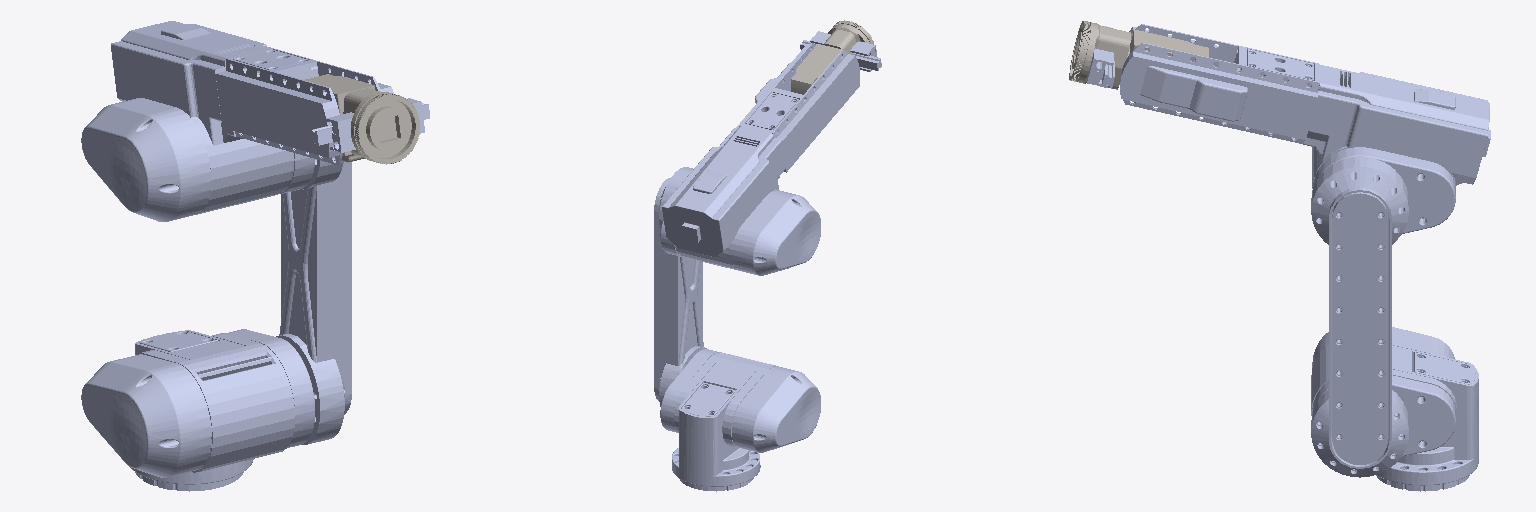
The robot description file, URDF, robot "robot_description_3":
<?xml version="1.0" encoding="utf-8"?>
<!-- This URDF was automatically created by SolidWorks to URDF Exporter! Originally created by [author] ([email redacted]) 
     Commit Version: 1.6.0-4-g7f85cfe  Build Version: 1.6.7995.38578
     For more information, please see http://wiki.ros.org/sw_urdf_exporter -->
<robot
  name="robot_description_3">
  <link
    name="base_link">
    <inertial>
      <origin
        xyz="-1.39077121530384E-06 0.0252334564653021 0.0913147831518379"
        rpy="0 0 0" />
      <mass
        value="6.38809399175893" />
      <inertia
        ixx="0.044253134336244"
        ixy="5.73120334715661E-07"
        ixz="6.02857447326292E-07"
        iyy="0.0326808549807236"
        iyz="-0.00206701679029979"
        izz="0.0428425867367847" />
    </inertial>
    <visual>
      <origin
        xyz="0 0 0"
        rpy="0 0 0" />
      <geometry>
        <mesh
          filename="package://robot_description_3/meshes/base_link.STL" />
      </geometry>
      <material
        name="">
        <color
          rgba="0.650980392156863 0.619607843137255 0.588235294117647 1" />
      </material>
    </visual>
    <collision>
      <origin
        xyz="0 0 0"
        rpy="0 0 0" />
      <geometry>
        <mesh
          filename="package://robot_description_3/meshes/base_link.STL" />
      </geometry>
    </collision>
  </link>
  <link
    name="link_1">
    <inertial>
      <origin
        xyz="-0.0459108378275545 0.0148885906295184 0.103785737116318"
        rpy="0 0 0" />
      <mass
        value="6.1422924246984" />
      <inertia
        ixx="0.0161938846987628"
        ixy="-4.26664474430145E-05"
        ixz="0.00445364092698756"
        iyy="0.0301710043585423"
        iyz="6.98931815398362E-07"
        izz="0.0244849168357048" />
    </inertial>
    <visual>
      <origin
        xyz="0 0 0"
        rpy="0 0 0" />
      <geometry>
        <mesh
          filename="package://robot_description_3/meshes/link_1.STL" />
      </geometry>
      <material
        name="">
        <color
          rgba="0.792156862745098 0.819607843137255 0.933333333333333 1" />
      </material>
    </visual>
    <collision>
      <origin
        xyz="0 0 0"
        rpy="0 0 0" />
      <geometry>
        <mesh
          filename="package://robot_description_3/meshes/link_1.STL" />
      </geometry>
    </collision>
  </link>
  <joint
    name="joint_1"
    type="revolute">
    <origin
      xyz="0 0 0.175"
      rpy="0 0 1.5708" />
    <parent
      link="base_link" />
    <child
      link="link_1" />
    <axis
      xyz="0 0 1" />
    <limit
      lower="0"
      upper="3.142"
      effort="300"
      velocity="3" />
  </joint>
  <link
    name="link_2">
    <inertial>
      <origin
        xyz="-4.83571810450112E-05 -0.174307508002041 -0.0349243341599044"
        rpy="0 0 0" />
      <mass
        value="2.48281663590646" />
      <inertia
        ixx="0.0497833412473321"
        ixy="-3.79326942590762E-06"
        ixz="3.91992586527896E-07"
        iyy="0.00261360494525241"
        iyz="-1.61774302029983E-05"
        izz="0.0517380702077168" />
    </inertial>
    <visual>
      <origin
        xyz="0 0 0"
        rpy="0 0 0" />
      <geometry>
        <mesh
          filename="package://robot_description_3/meshes/link_2.STL" />
      </geometry>
      <material
        name="">
        <color
          rgba="0.792156862745098 0.819607843137255 0.933333333333333 1" />
      </material>
    </visual>
    <collision>
      <origin
        xyz="0 0 0"
        rpy="0 0 0" />
      <geometry>
        <mesh
          filename="package://robot_description_3/meshes/link_2.STL" />
      </geometry>
    </collision>
  </link>
  <joint
    name="joint_2"
    type="revolute">
    <origin
      xyz="-0.089983 -0.09 0.12047"
      rpy="-1.5708 0 0" />
    <parent
      link="link_1" />
    <child
      link="link_2" />
    <axis
      xyz="0 0 -1" />
    <limit
      lower="-1.52"
      upper="1.52"
      effort="200"
      velocity="3" />
  </joint>
  <link
    name="link_3">
    <inertial>
      <origin
        xyz="0.037320223301333 -0.027141323498415 0.103036752175439"
        rpy="0 0 0" />
      <mass
        value="7.02290373419681" />
      <inertia
        ixx="0.0216860618757671"
        ixy="0.000112620386395563"
        ixz="-3.92750122540948E-05"
        iyy="0.0323021842810355"
        iyz="-2.06323348968275E-05"
        izz="0.0417729642510371" />
    </inertial>
    <visual>
      <origin
        xyz="0 0 0"
        rpy="0 0 0" />
      <geometry>
        <mesh
          filename="package://robot_description_3/meshes/link_3.STL" />
      </geometry>
      <material
        name="">
        <color
          rgba="0.792156862745098 0.819607843137255 0.933333333333333 1" />
      </material>
    </visual>
    <collision>
      <origin
        xyz="0 0 0"
        rpy="0 0 0" />
      <geometry>
        <mesh
          filename="package://robot_description_3/meshes/link_3.STL" />
      </geometry>
    </collision>
  </link>
  <joint
    name="joint_3"
    type="revolute">
    <origin
      xyz="0 -0.34998 0"
      rpy="0 0 0" />
    <parent
      link="link_2" />
    <child
      link="link_3" />
    <axis
      xyz="0 0 -1" />
    <limit
      lower="-3.142"
      upper="0"
      effort="200"
      velocity="3" />
  </joint>
  <link
    name="link_4">
    <inertial>
      <origin
        xyz="-4.16993897193185E-05 -0.00346178942735142 0.109572414245508"
        rpy="0 0 0" />
      <mass
        value="1.75839958141946" />
      <inertia
        ixx="0.0123895257712281"
        ixy="1.78342945354324E-05"
        ixz="-0.000341088384760169"
        iyy="0.0113465000523975"
        iyz="0.00018561564619931"
        izz="0.0027144775181128" />
    </inertial>
    <visual>
      <origin
        xyz="0 0 0"
        rpy="0 0 0" />
      <geometry>
        <mesh
          filename="package://robot_description_3/meshes/link_4.STL" />
      </geometry>
      <material
        name="">
        <color
          rgba="0.792156862745098 0.819607843137255 0.933333333333333 1" />
      </material>
    </visual>
    <collision>
      <origin
        xyz="0 0 0"
        rpy="0 0 0" />
      <geometry>
        <mesh
          filename="package://robot_description_3/meshes/link_4.STL" />
      </geometry>
    </collision>
  </link>
  <joint
    name="joint_4"
    type="revolute">
    <origin
      xyz="-0.078935 -0.11074 0.09"
      rpy="1.5708 0 -1.3286" />
    <parent
      link="link_3" />
    <child
      link="link_4" />
    <axis
      xyz="0 0 1" />
    <limit
      lower="0"
      upper="3.142"
      effort="200"
      velocity="3" />
  </joint>
  <link
    name="link_5">
    <inertial>
      <origin
        xyz="-0.0251557629818763 0.00448089191786527 0.0299999994816861"
        rpy="0 0 0" />
      <mass
        value="0.625766188635398" />
      <inertia
        ixx="0.000549855301590171"
        ixy="2.1185796009141E-05"
        ixz="-2.97341777864379E-11"
        iyy="0.000721916939689232"
        iyz="-8.82924038292003E-11"
        izz="0.000962552930414711" />
    </inertial>
    <visual>
      <origin
        xyz="0 0 0"
        rpy="0 0 0" />
      <geometry>
        <mesh
          filename="package://robot_description_3/meshes/link_5.STL" />
      </geometry>
      <material
        name="">
        <color
          rgba="0.776470588235294 0.756862745098039 0.737254901960784 1" />
      </material>
    </visual>
    <collision>
      <origin
        xyz="0 0 0"
        rpy="0 0 0" />
      <geometry>
        <mesh
          filename="package://robot_description_3/meshes/link_5.STL" />
      </geometry>
    </collision>
  </link>
  <joint
    name="joint_5"
    type="revolute">
    <origin
      xyz="0.0015915 0.029738 0.22152"
      rpy="1.5708 1.3286 0" />
    <parent
      link="link_4" />
    <child
      link="link_5" />
    <axis
      xyz="0 0 1" />
    <limit
      lower="-3.142"
      upper="0"
      effort="200"
      velocity="3" />
  </joint>
  <link
    name="End_effector">
    <inertial>
      <origin
        xyz="-1.1102E-16 0 0.024285"
        rpy="0 0 0" />
      <mass
        value="0.13993" />
      <inertia
        ixx="2.3591E-05"
        ixy="-3.2638E-06"
        ixz="-8.3171E-21"
        iyy="0.00019383"
        iyz="-8.0355E-21"
        izz="0.00020142" />
    </inertial>
    <visual>
      <origin
        xyz="0 0 0"
        rpy="0 0 0" />
      <geometry>
        <mesh
          filename="package://robot_description_3/meshes/End_effector.STL" />
      </geometry>
      <material
        name="">
        <color
          rgba="0.79216 0.81961 0.93333 1" />
      </material>
    </visual>
    <collision>
      <origin
        xyz="0 0 0"
        rpy="0 0 0" />
      <geometry>
        <mesh
          filename="package://robot_description_3/meshes/End_effector.STL" />
      </geometry>
    </collision>
  </link>
  <joint
    name="joint_end_effector"
    type="revolute">
    <origin
      xyz="-0.10193 0.025186 0.03"
      rpy="2.8994 -1.5708 0" />
    <parent
      link="link_5" />
    <child
      link="End_effector" />
    <axis
      xyz="0 0 -1" />
    <limit
      lower="-1.52"
      upper="1.52"
      effort="200"
      velocity="3" />
  </joint>
  <link
    name="link_6">
    <inertial>
      <origin
        xyz="0.025761 -0.023526 0.017713"
        rpy="0 0 0" />
      <mass
        value="0.045658" />
      <inertia
        ixx="2.5682E-05"
        ixy="-1.223E-05"
        ixz="6.686E-06"
        iyy="2.8506E-05"
        iyz="7.5054E-06"
        izz="4.0486E-05" />
    </inertial>
    <visual>
      <origin
        xyz="0 0 0"
        rpy="0 0 0" />
      <geometry>
        <mesh
          filename="package://robot_description_3/meshes/link_6.STL" />
      </geometry>
      <material
        name="">
        <color
          rgba="0.79216 0.81961 0.93333 1" />
      </material>
    </visual>
    <collision>
      <origin
        xyz="0 0 0"
        rpy="0 0 0" />
      <geometry>
        <mesh
          filename="package://robot_description_3/meshes/link_6.STL" />
      </geometry>
    </collision>
  </link>
  <joint
    name="joint_6"
    type="prismatic">
    <origin
      xyz="0 0.02 0.04"
      rpy="-3.1416 -1.3286 -1.5708" />
    <parent
      link="End_effector" />
    <child
      link="link_6" />
    <axis
      xyz="0 -1 0" />
    <limit
      lower="0"
      upper="0.04"
      effort="200"
      velocity="3" />
  </joint>
  <link
    name="link_7">
    <inertial>
      <origin
        xyz="0.024142 0.028606 0.01116"
        rpy="0 0 0" />
      <mass
        value="0.045658" />
      <inertia
        ixx="2.3382E-05"
        ixy="1.4318E-05"
        ixz="2.3156E-06"
        iyy="2.8506E-05"
        iyz="9.4592E-07"
        izz="4.2786E-05" />
    </inertial>
    <visual>
      <origin
        xyz="0 0 0"
        rpy="0 0 0" />
      <geometry>
        <mesh
          filename="package://robot_description_3/meshes/link_7.STL" />
      </geometry>
      <material
        name="">
        <color
          rgba="0.79216 0.81961 0.93333 1" />
      </material>
    </visual>
    <collision>
      <origin
        xyz="0 0 0"
        rpy="0 0 0" />
      <geometry>
        <mesh
          filename="package://robot_description_3/meshes/link_7.STL" />
      </geometry>
    </collision>
  </link>
  <joint
    name="joint_7"
    type="prismatic">
    <origin
      xyz="0 0.02 0.04"
      rpy="-3.1416 -1.3286 -1.5708" />
    <parent
      link="End_effector" />
    <child
      link="link_7" />
    <axis
      xyz="0 -1 0" />
    <limit
      lower="-0.04"
      upper="0"
      effort="200"
      velocity="3" />
  </joint>
</robot>

--- What the picture shows (computed from the rendered views, not written in the file) ---
The picture shows the robot from 3 angles, left to right: view 1: azimuth 30°, elevation 25°; view 2: azimuth 150°, elevation 25°; view 3: azimuth 270°, elevation 25°; orthographic projection.
Robot: robot_description_3 — 9 links, 8 joints (6 revolute, 2 prismatic); root link base_link; default pose: all joints at 0.
Links seen in each view (by area): view 1: link_1, link_3, link_2, link_4, link_5, End_effector; view 2: link_3, link_1, link_2, link_4, link_5, End_effector; view 3: link_2, link_3, link_4, link_1, link_5, End_effector.
Link boxes in pixels (bbox=[...]): link_1: bbox=[81, 329, 314, 491]; link_3: bbox=[81, 21, 314, 221]; link_2: bbox=[276, 159, 351, 444]; link_4: bbox=[216, 48, 393, 165]; link_5: bbox=[305, 74, 419, 164]; End_effector: bbox=[311, 98, 429, 152]; link_3: bbox=[660, 126, 820, 275]; link_1: bbox=[660, 349, 820, 491]; link_2: bbox=[654, 167, 706, 406]; link_4: bbox=[736, 43, 859, 172]; link_5: bbox=[791, 20, 873, 94]; End_effector: bbox=[800, 31, 881, 71]; link_2: bbox=[1311, 157, 1408, 477]; link_3: bbox=[1303, 65, 1490, 233]; link_4: bbox=[1120, 24, 1319, 143]; link_1: bbox=[1311, 327, 1478, 491]; link_5: bbox=[1069, 21, 1208, 89]; End_effector: bbox=[1087, 25, 1114, 87].
Bounding box of the posed robot: 0.295 × 0.6026 × 0.7062 m (x, y, z).
Meshes: 9 distinct files referenced, 6 mesh visuals loaded (6 binary STL); not drawn: 3 (reference not matched to a file when rendering).